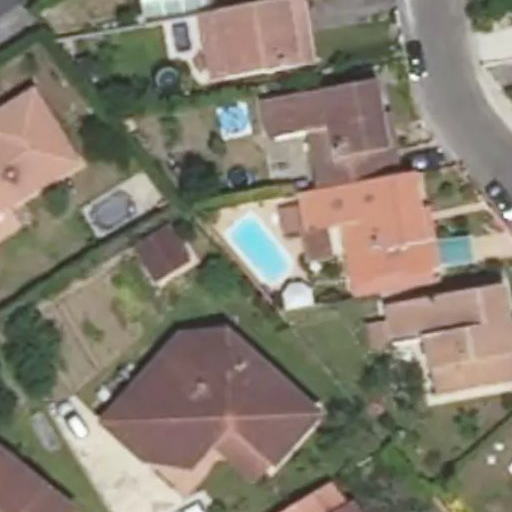pool: (224, 231, 292, 261)
